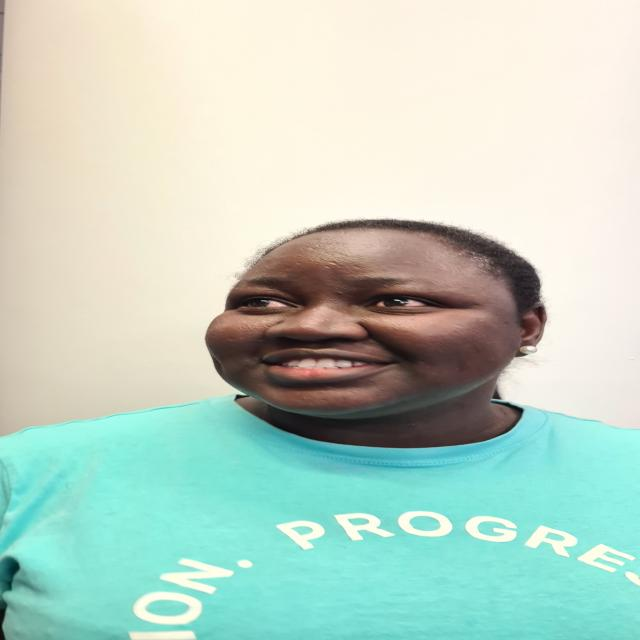happy: (202, 212, 568, 421)
